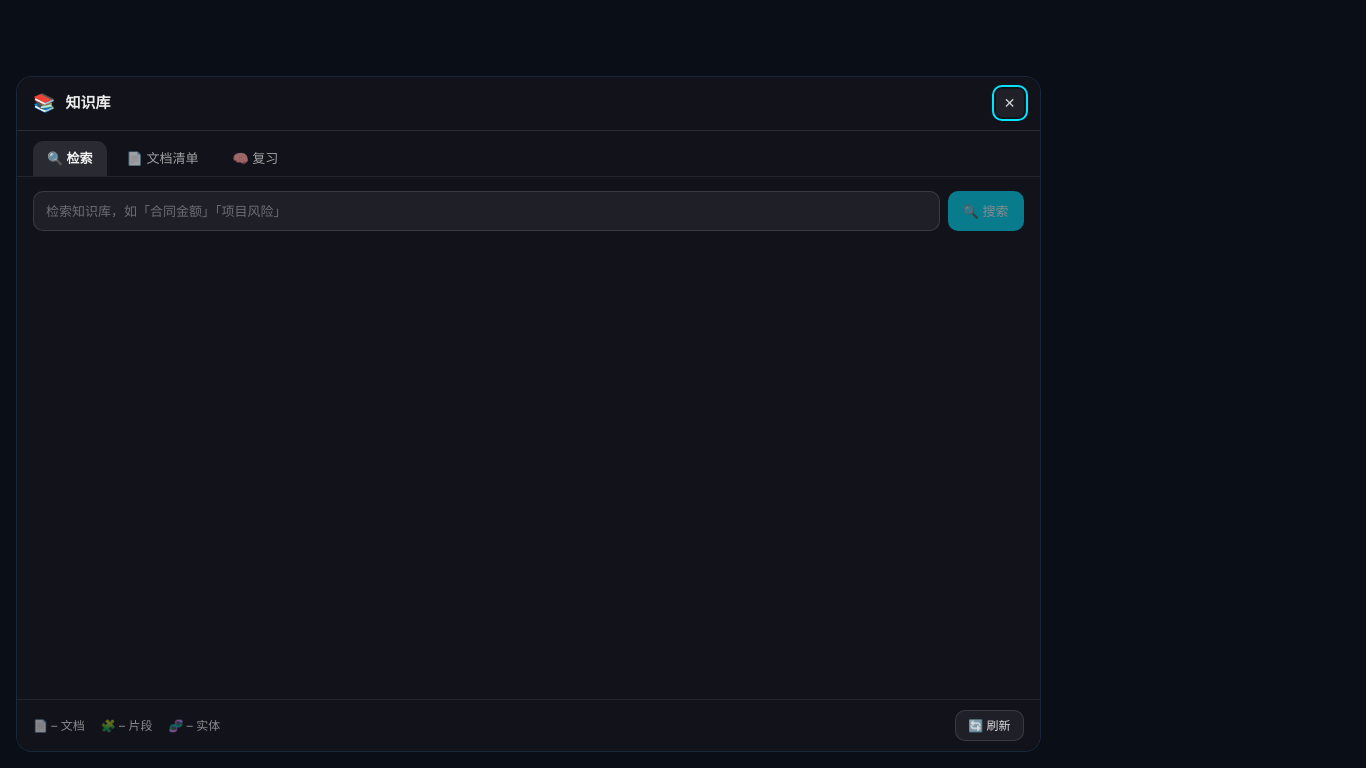
Test case: KnowledgePanel 知识库面板（DeepTutor 精华前端承载） › 复习 tab:到期实体展示 + 答对 → POST /api/kb/review correct:true + 条目移除
Click the tab "🧠 复习": (255, 158) [218,141,292,176]
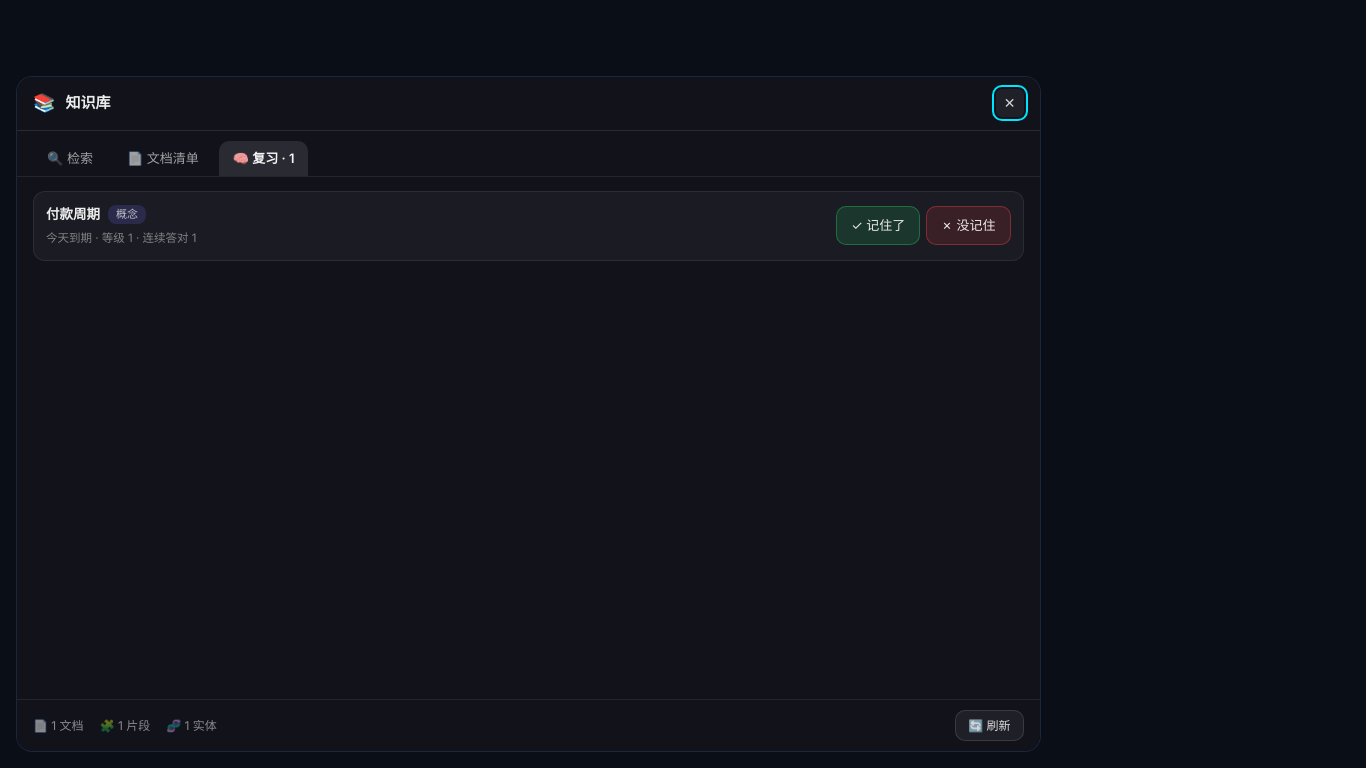
Expected: the text "付款周期" is shown, [46,206,100,222]
Expected: the text "概念" is shown, [108,205,146,224]
Click the button with aria-label "记住 付款周期": (878, 226) [836,206,920,245]
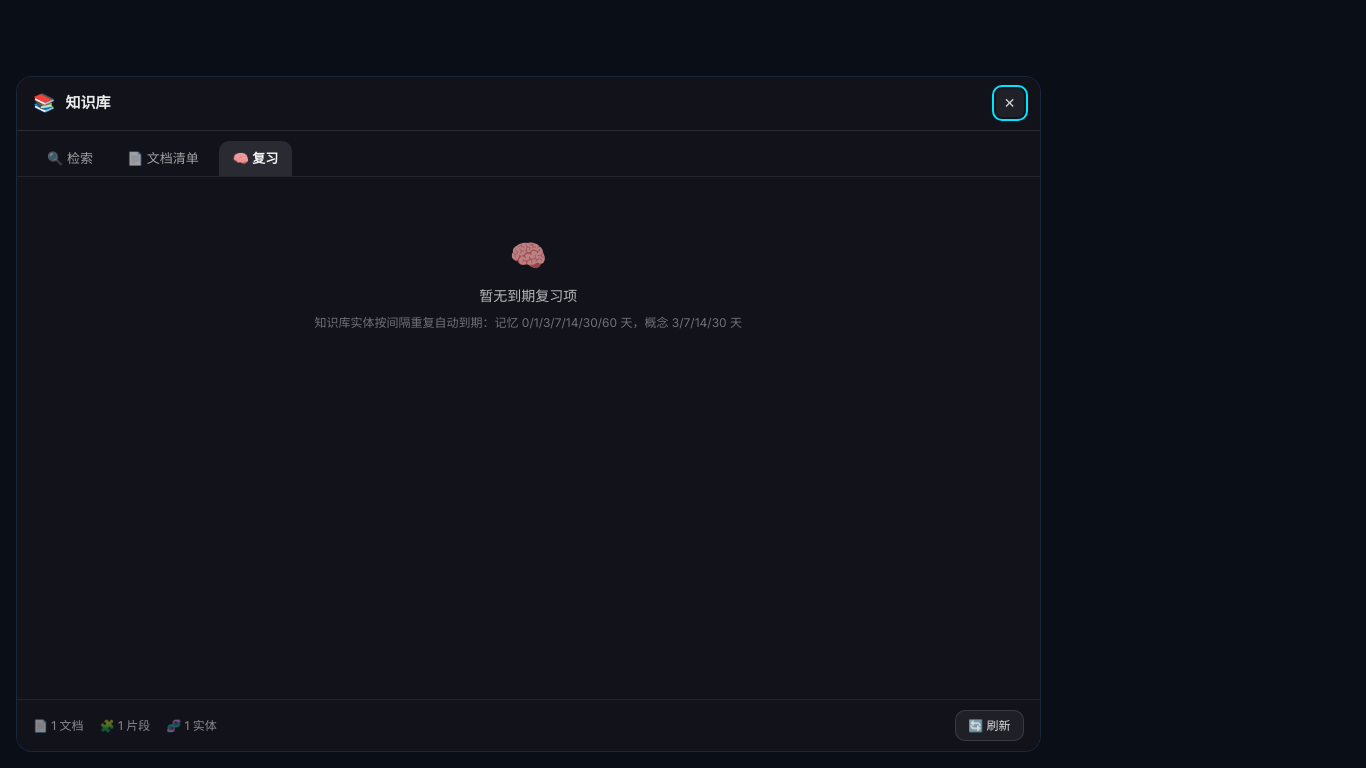
Expected: the text "付款周期" is gone
Expected: the text "暂无到期复习项" is shown, [479,285,577,307]
